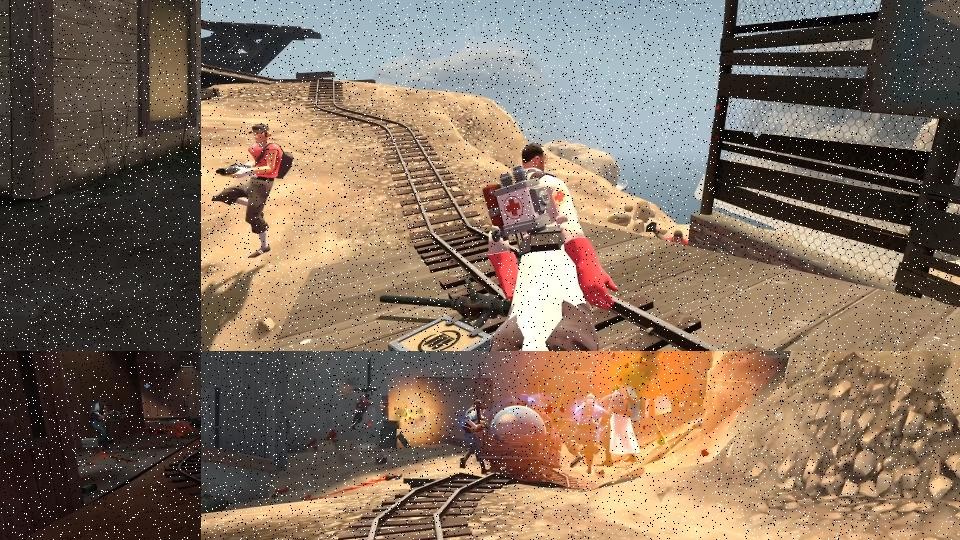Enemy: (475, 140, 619, 351), (211, 122, 295, 259), (567, 393, 607, 468), (461, 399, 490, 474), (610, 386, 637, 464), (88, 397, 129, 446), (646, 222, 689, 245), (351, 394, 372, 430)
